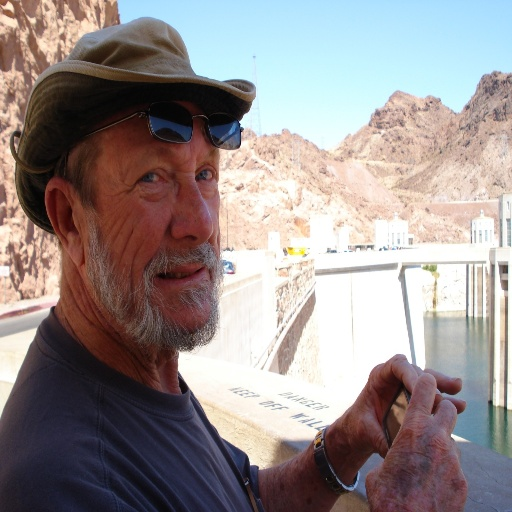hand: (364, 372, 465, 511), (347, 353, 465, 458)
